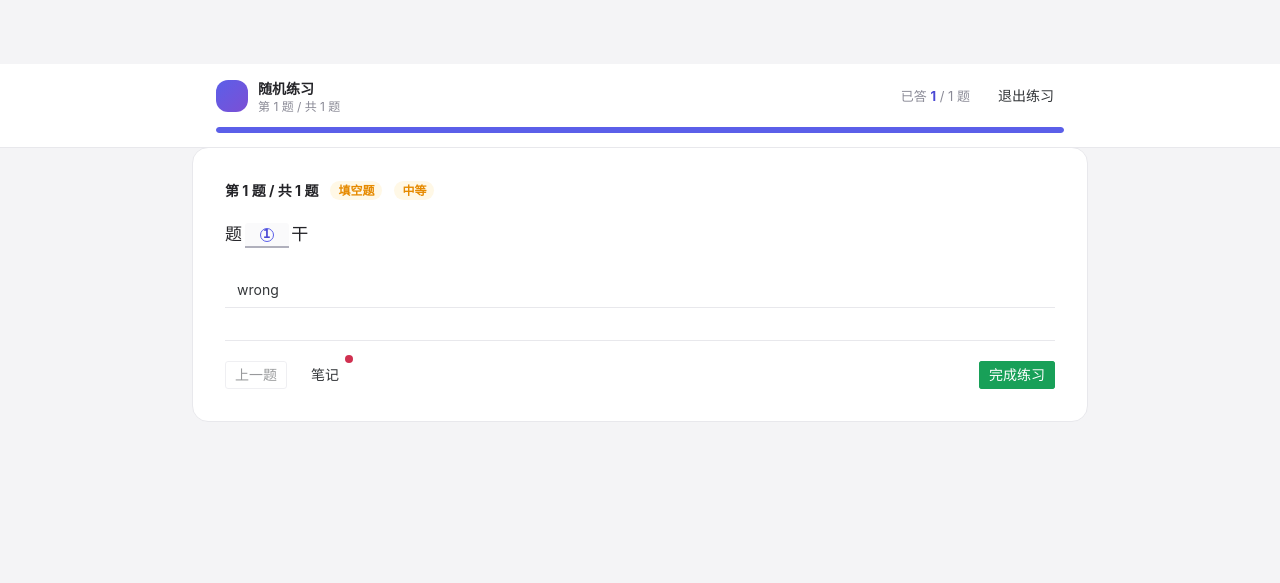
Test case: PracticePage 自由练习页 › 填空题判定确定性判错（每空均有标准答案）仍保留 AI 评分入口（回归：旁边漏按钮）
Click the button "完成练习".
click(1017, 375)  # box [979,361,1055,389]
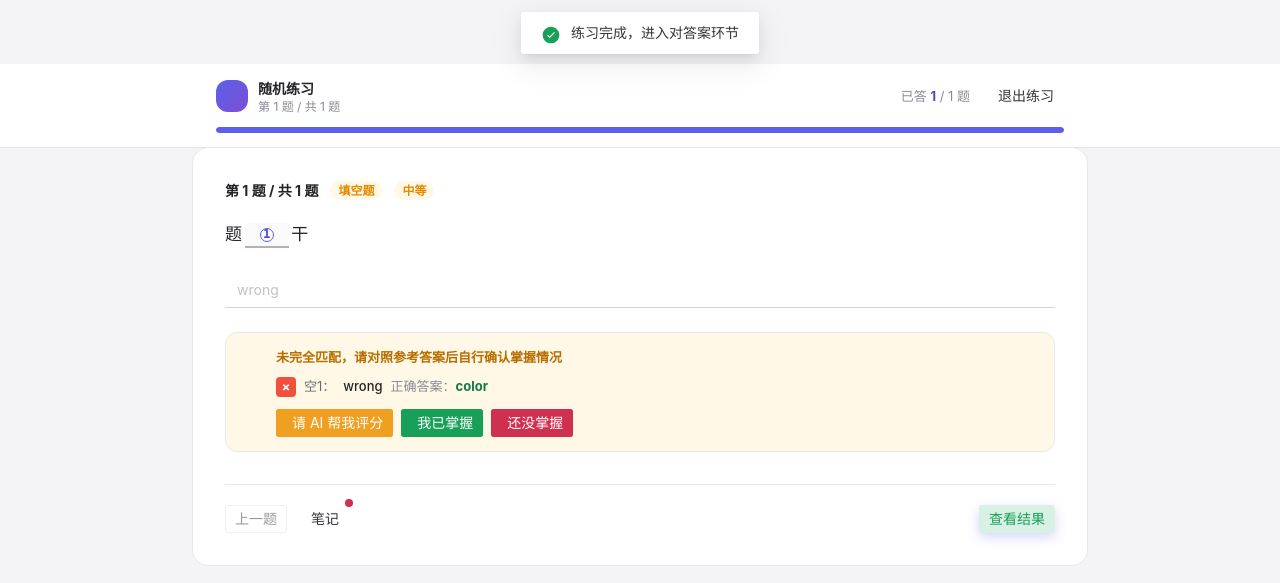
Expected: the text "未完全匹配" is shown, [276,349,562,365]
Expected: the text "请 AI 帮我评分" is shown, [292,416,383,430]
Expected: the text "我已掌握" is shown, [417,416,473,430]
